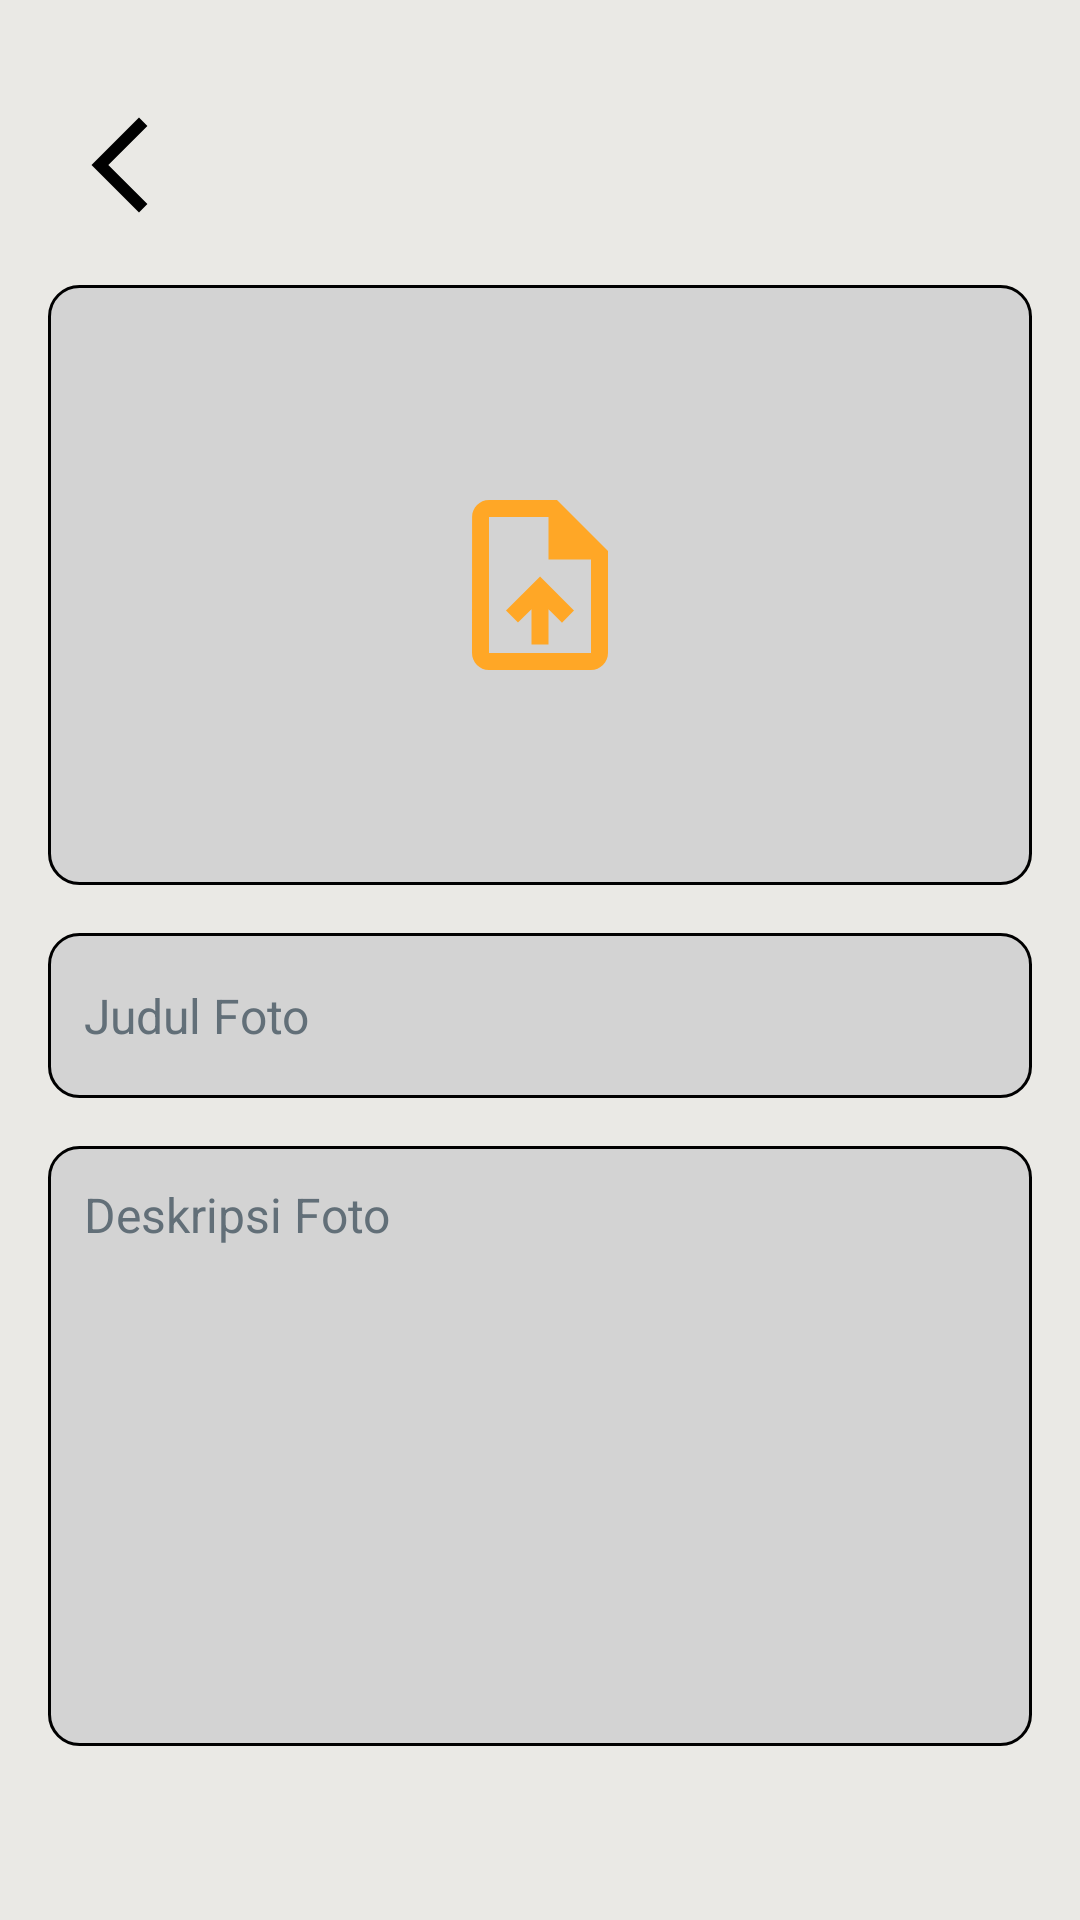

Point at icon controls on the screen. Image size 1080w x 1920h, points as [x,y].
backbtn: [119,165]
